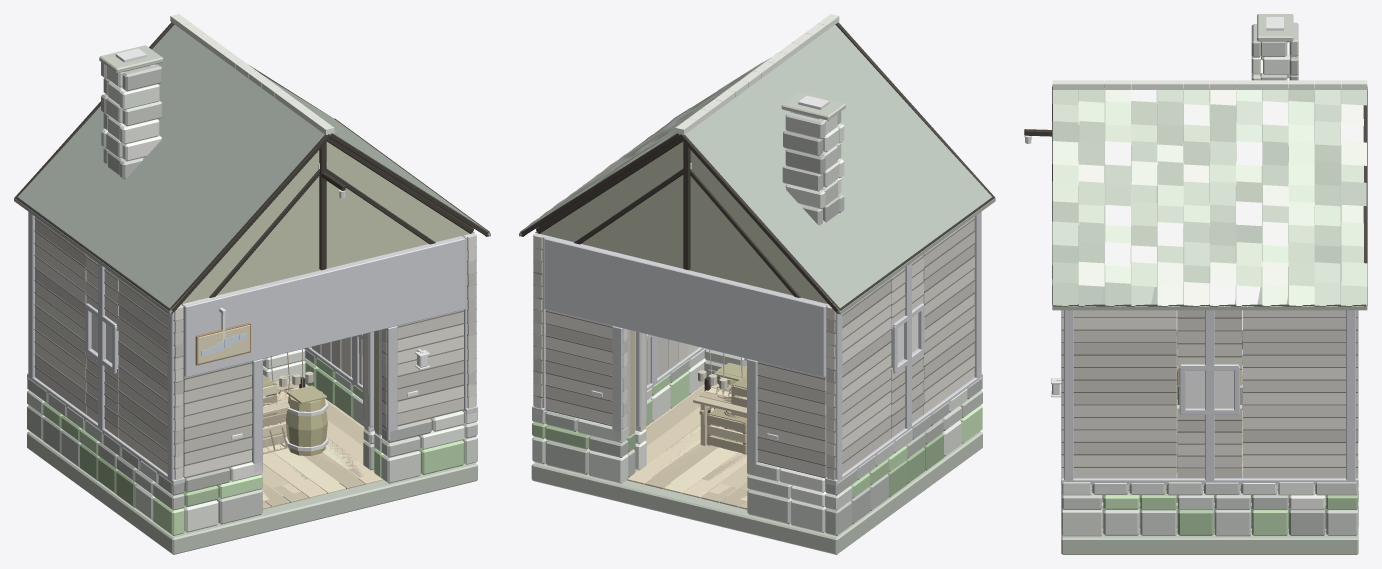
The model's file is kit.glb.
3 views of the same model, side by side, from view 1: azimuth 30°, elevation 25°; view 2: azimuth 150°, elevation 25°; view 3: azimuth 270°, elevation 25° (orthographic).
Visible parts, largest first — view 1: tavern_roof__harbor_tile, tavern_wall_front__oak_frame, tavern_wall_west__tavern_wash, tavern_base__watch_stone, tavern_roof__tavern_wash, tavern_wall_front__tavern_wash, tavern_roof__watch_stone, tavern_roof__oak_frame, tavern_wall_west__oak_frame, tavern_wall_front__watch_stone, tavern_wall_west__watch_stone, tavern_base__aged_timber (+11 smaller); view 2: tavern_roof__harbor_tile, tavern_wall_back__oak_frame, tavern_wall_west__tavern_wash, tavern_base__watch_stone, tavern_roof__tavern_wash, tavern_wall_back__tavern_wash, tavern_roof__watch_stone, tavern_roof__oak_frame, tavern_wall_west__oak_frame, tavern_wall_back__watch_stone, tavern_base__aged_timber, tavern_wall_west__watch_stone (+13 smaller); view 3: tavern_roof__harbor_tile, tavern_wall_east__tavern_wash, tavern_base__watch_stone, tavern_wall_east__watch_stone, tavern_wall_east__oak_frame, tavern_roof__watch_stone, tavern_wall_east__recess_shadow, tavern_roof__oak_frame.
Boxes of the visible parts, <box> form: tavern_roof__harbor_tile: <box>14,14,490,314</box>; tavern_wall_front__oak_frame: <box>181,236,465,472</box>; tavern_wall_west__tavern_wash: <box>34,217,183,480</box>; tavern_base__watch_stone: <box>27,405,477,554</box>; tavern_roof__tavern_wash: <box>181,141,474,304</box>; tavern_wall_front__tavern_wash: <box>182,236,464,478</box>; tavern_roof__watch_stone: <box>99,45,163,179</box>; tavern_roof__oak_frame: <box>15,22,489,313</box>; tavern_wall_west__oak_frame: <box>27,212,184,485</box>; tavern_wall_front__watch_stone: <box>183,411,464,506</box>; tavern_wall_west__watch_stone: <box>27,377,184,510</box>; tavern_base__aged_timber: <box>262,384,383,509</box>; tavern_roof__harbor_tile: <box>519,14,995,314</box>; tavern_wall_back__oak_frame: <box>544,236,828,472</box>; tavern_wall_west__tavern_wash: <box>826,216,975,480</box>; tavern_base__watch_stone: <box>531,405,982,554</box>; tavern_roof__tavern_wash: <box>535,141,828,304</box>; tavern_wall_back__tavern_wash: <box>545,236,827,478</box>; tavern_roof__watch_stone: <box>781,92,845,225</box>; tavern_roof__oak_frame: <box>520,22,994,313</box>; tavern_wall_west__oak_frame: <box>825,212,982,485</box>; tavern_wall_back__watch_stone: <box>545,411,826,507</box>; tavern_base__aged_timber: <box>626,384,747,509</box>; tavern_wall_west__watch_stone: <box>825,377,982,510</box>; tavern_roof__harbor_tile: <box>1052,80,1367,310</box>; tavern_wall_east__tavern_wash: <box>1061,310,1357,478</box>; tavern_base__watch_stone: <box>1061,502,1358,554</box>; tavern_wall_east__watch_stone: <box>1061,482,1357,510</box>; tavern_wall_east__oak_frame: <box>1061,310,1358,484</box>; tavern_roof__watch_stone: <box>1251,14,1298,80</box>; tavern_wall_east__recess_shadow: <box>1185,370,1233,407</box>; tavern_roof__oak_frame: <box>1052,86,1367,306</box>.
Size of the model in its own units: 5.96 by 7.25 by 5.45.
